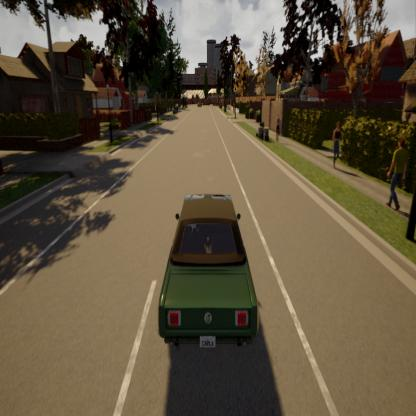Cars: (149, 186, 265, 360)
Pedestrian: (386, 133, 411, 215), (332, 120, 342, 175), (273, 111, 283, 144)
